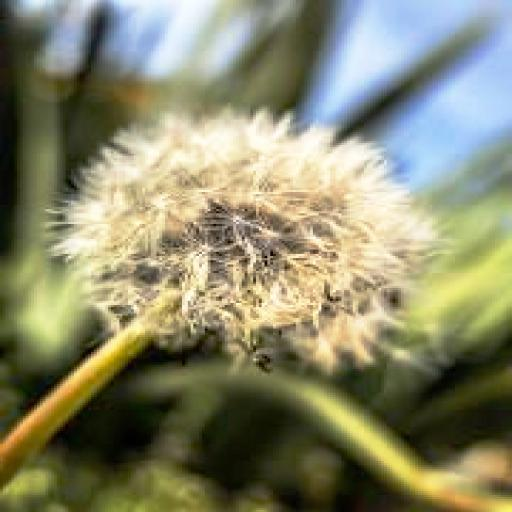dandelion: (54, 111, 432, 354)
